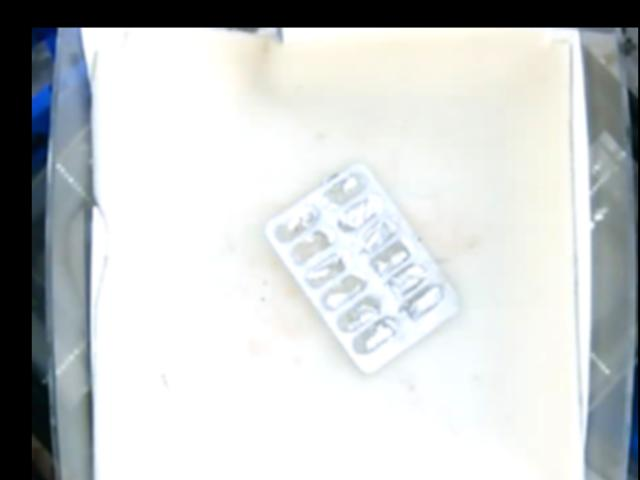Medicine: (264, 164, 454, 383)
